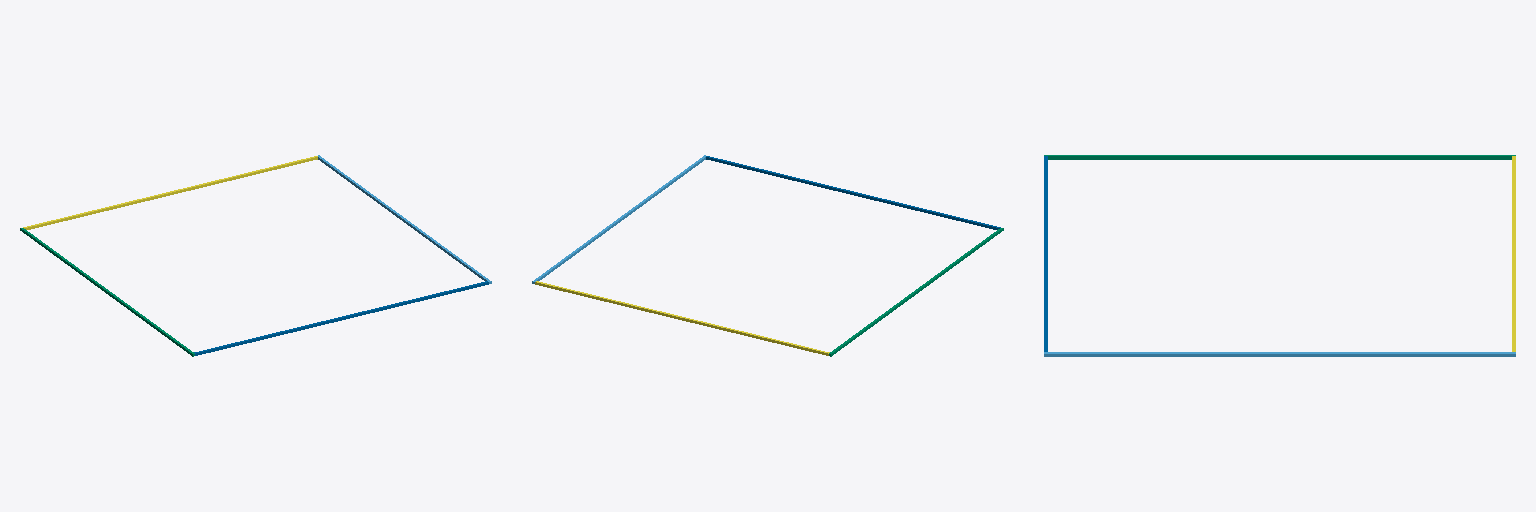
robot.urdf — enclosure_halfside_3.0:
<?xml version="1.0"?>

<!-- a simple square enclosure for the robot swarm, with half side length 3.0 -->

<robot name="enclosure_halfside_3.0">

<!-- used for fixing the four walls to gazebo -->
<link name="world"/>

<!-- the link objects for four walls -->

<!-- wall at upper x axis, walls at x axis will be longer than walls at y axis -->
<link name="x_upper">
  <inertial>
    <mass value="1"/>
    <origin xyz="0 0 0"/>
    <inertia ixx="1.0" ixy="0.0" ixz="0.0"
      iyy="1.0" iyz="0.0"
      izz="1.0"/>
  </inertial>

  <visual>
    <origin xyz="0 0 0"/>
    <geometry>
      <!-- <box size="0.05 halfside*2+0.1 0.05"/> -->
      <box size="0.05 6.1 0.05"/>
    </geometry>
  </visual>

  <collision>
    <origin xyz="0 0 0"/>
    <geometry>
      <!-- <box size="0.05 halfside*2+0.1 0.05"/> -->
      <box size="0.05 6.1 0.05"/>
    </geometry>
  </collision>
</link>

<!-- <gazebo reference="x_upper">
  <material>Gazebo/Grey</material>
</gazebo> -->

<gazebo reference="x_upper">
  <material>Gazebo/Black</material>
</gazebo>

<!-- wall at lower x axis -->
<link name="x_lower">
  <inertial>
    <mass value="1"/>
    <origin xyz="0 0 0"/>
    <inertia ixx="1.0" ixy="0.0" ixz="0.0"
      iyy="1.0" iyz="0.0"
      izz="1.0"/>
  </inertial>

  <visual>
    <origin xyz="0 0 0"/>
    <geometry>
      <!-- <box size="0.05 halfside*2+0.1 0.05"/> -->
      <box size="0.05 6.1 0.05"/>
    </geometry>
  </visual>

  <collision>
    <origin xyz="0 0 0"/>
    <geometry>
      <!-- <box size="0.05 halfside*2+0.1 0.05"/> -->
      <box size="0.05 6.1 0.05"/>
    </geometry>
  </collision>
</link>

<gazebo reference="x_lower">
  <material>Gazebo/Grey</material>
</gazebo>

<!-- wall at upper y axis -->
<link name="y_upper">
  <inertial>
    <mass value="1"/>
    <origin xyz="0 0 0"/>
    <inertia ixx="1.0" ixy="0.0" ixz="0.0"
      iyy="1.0" iyz="0.0"
      izz="1.0"/>
  </inertial>

  <visual>
    <origin xyz="0 0 0"/>
    <geometry>
      <!-- <box size="halfside*2 0.05 0.05"/> -->
      <box size="6.0 0.05 0.05"/>
    </geometry>
  </visual>

  <collision>
    <origin xyz="0 0 0"/>
    <geometry>
      <!-- <box size="halfside*2 0.05 0.05"/> -->
      <box size="6.0 0.05 0.05"/>
    </geometry>
  </collision>
</link>

<gazebo reference="y_upper">
  <material>Gazebo/Grey</material>
</gazebo>

<!-- wall at lower y axis -->
<link name="y_lower">
  <inertial>
    <mass value="1"/>
    <origin xyz="0 0 0"/>
    <inertia ixx="1.0" ixy="0.0" ixz="0.0"
      iyy="1.0" iyz="0.0"
      izz="1.0"/>
  </inertial>

  <visual>
    <origin xyz="0 0 0"/>
    <geometry>
      <!-- <box size="halfside*2 0.05 0.05"/> -->
      <box size="6.0 0.05 0.05"/>
    </geometry>
  </visual>

  <collision>
    <origin xyz="0 0 0"/>
    <geometry>
      <!-- <box size="halfside*2 0.05 0.05"/> -->
      <box size="6.0 0.05 0.05"/>
    </geometry>
  </collision>
</link>

<gazebo reference="y_lower">
  <material>Gazebo/Grey</material>
</gazebo>


<!-- the joint objects to fix the walls on the ground -->

<!-- for the wall at upper x axis -->
<joint name="glue_wall_x_upper" type="fixed">
  <parent link="world"/>
  <child link="x_upper"/>
  <!-- <origin xyz="halfside+0.025 0 0.025" rpy="0 0 0"/> -->
  <origin xyz="3.025 0 0.025" rpy="0 0 0"/>
</joint>

<!-- for the wall at lower x axis -->
<joint name="glue_wall_x_lower" type="fixed">
  <parent link="world"/>
  <child link="x_lower"/>
  <!-- <origin xyz="-(halfside+0.025) 0 0.025" rpy="0 0 0"/> -->
  <origin xyz="-3.025 0 0.025" rpy="0 0 0"/>
</joint>

<!-- for the wall at upper y axis -->
<joint name="glue_wall_y_upper" type="fixed">
  <parent link="world"/>
  <child link="y_upper"/>
  <!-- <origin xyz="0 halfside+0.025 0.025" rpy="0 0 0"/> -->
  <origin xyz="0 3.025 0.025" rpy="0 0 0"/>
</joint>

<!-- for the wall at lower y axis -->
<joint name="glue_wall_y_lower" type="fixed">
  <parent link="world"/>
  <child link="y_lower"/>
  <!-- <origin xyz="0 -(halfside+0.025) 0.025" rpy="0 0 0"/> -->
  <origin xyz="0 -3.025 0.025" rpy="0 0 0"/>
</joint>


</robot>

--- What the picture shows (computed from the rendered views, not written in the file) ---
The picture shows the robot from 3 angles, left to right: view 1: azimuth 30°, elevation 25°; view 2: azimuth 150°, elevation 25°; view 3: azimuth 270°, elevation 25°; orthographic projection.
Robot: enclosure_halfside_3.0 — 5 links, 4 joints (4 fixed); root link world; default pose: all joints at 0.
Links seen in each view (by area): view 1: y_lower, y_upper, x_lower, x_upper; view 2: y_upper, y_lower, x_lower, x_upper; view 3: x_upper, x_lower, y_upper, y_lower.
Boxes of the visible links, box(x1,y1,x2,y2) form: y_lower: box(194, 281, 488, 355); y_upper: box(23, 156, 317, 229); x_lower: box(20, 228, 194, 356); x_upper: box(318, 155, 491, 283); y_upper: box(535, 281, 829, 355); y_lower: box(706, 156, 1000, 229); x_lower: box(829, 228, 1003, 356); x_upper: box(532, 155, 705, 283); x_upper: box(1044, 352, 1515, 356); x_lower: box(1044, 155, 1515, 159); y_upper: box(1512, 156, 1515, 351); y_lower: box(1044, 156, 1047, 351).
Size in the robot's own frame: 6.1 by 6.1 by 0.05 metres.
Geometry: primitives only (box / cylinder / sphere), no mesh files.
